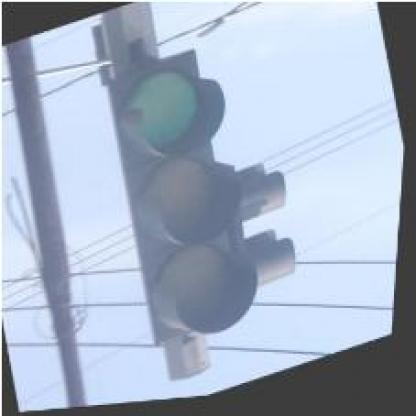green: (89, 41, 285, 362)
